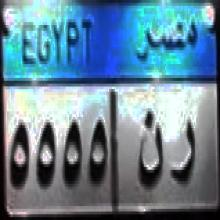5: (61, 116, 84, 187), (86, 116, 108, 186), (34, 117, 56, 186), (9, 119, 30, 187)
noon: (137, 107, 165, 192)
raa: (170, 109, 197, 194)
